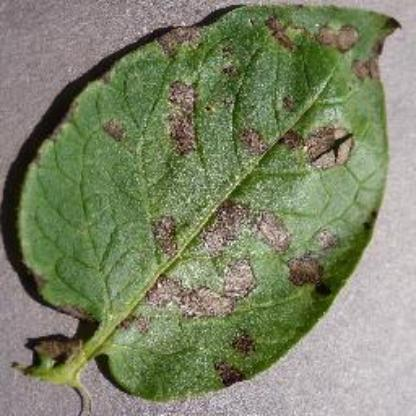Early-Blight: (13, 3, 407, 402)
